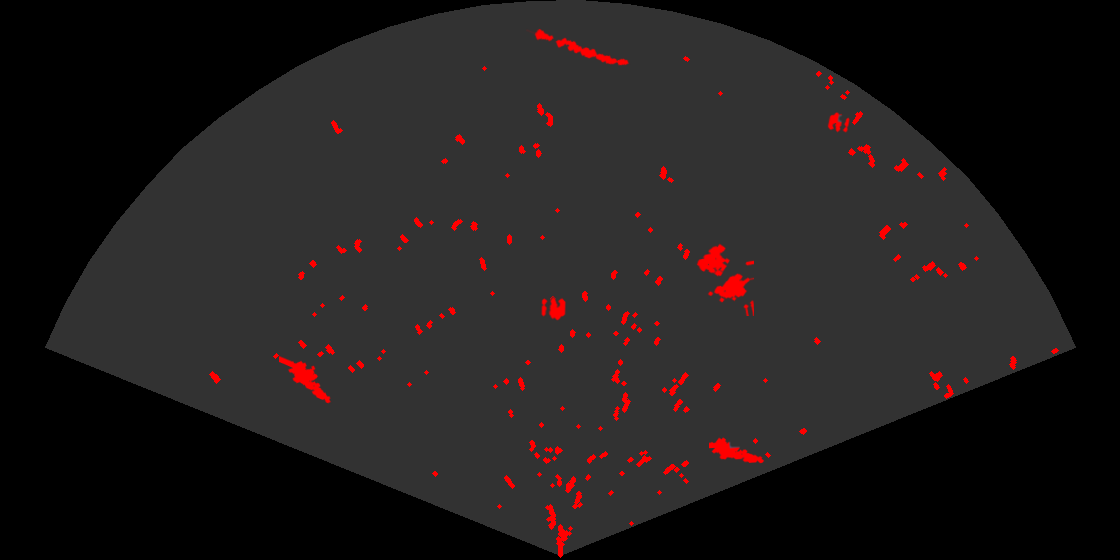ball: (540, 295, 567, 322), (826, 111, 851, 134)
cage: (695, 242, 754, 316)
chain: (526, 27, 631, 67)
frogman: (279, 354, 333, 405), (709, 436, 765, 465)
